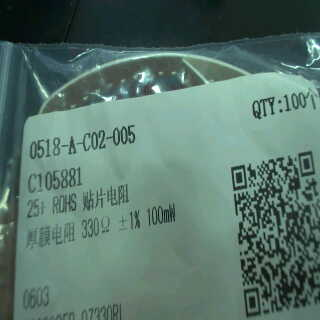330R: (77, 213, 113, 241)
